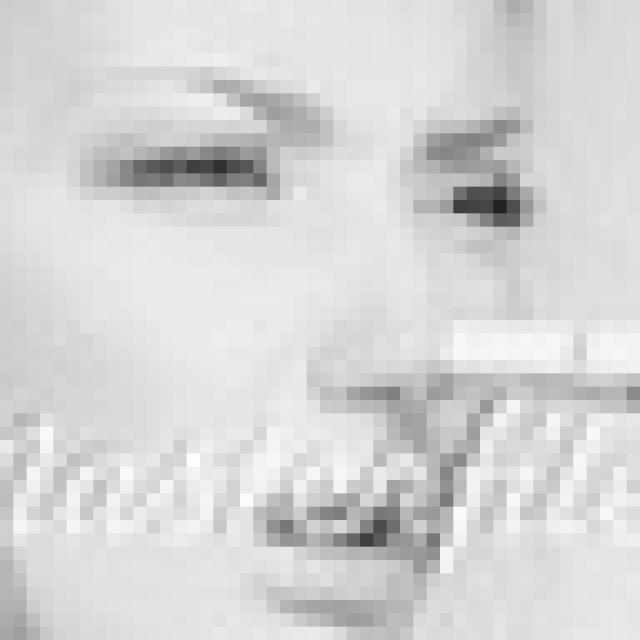disgust: (70, 66, 539, 625)
